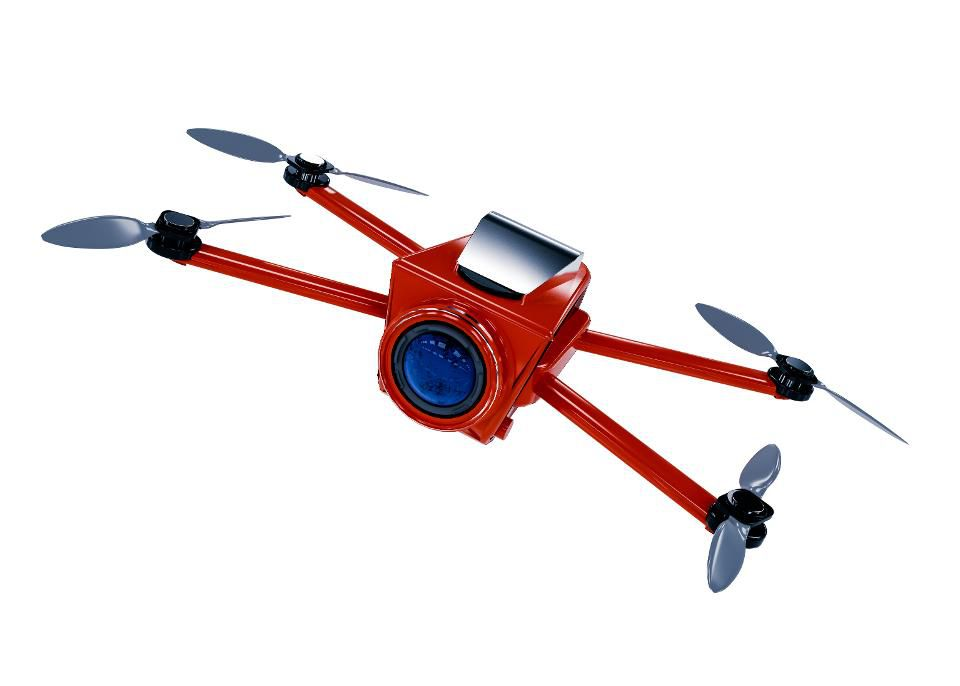drone: (32, 119, 916, 611)
